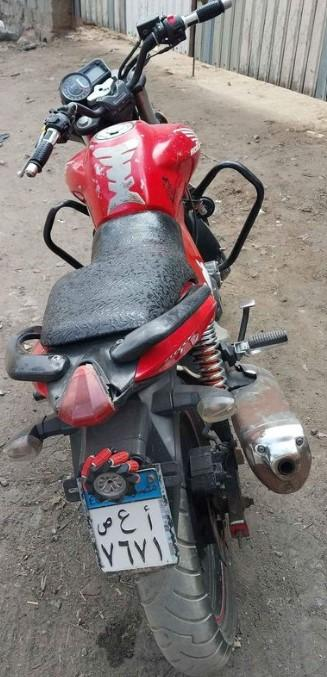License Plate: (87, 464, 179, 577)
